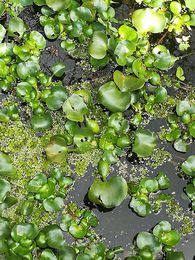water_hyacinth: (0, 1, 194, 259)
